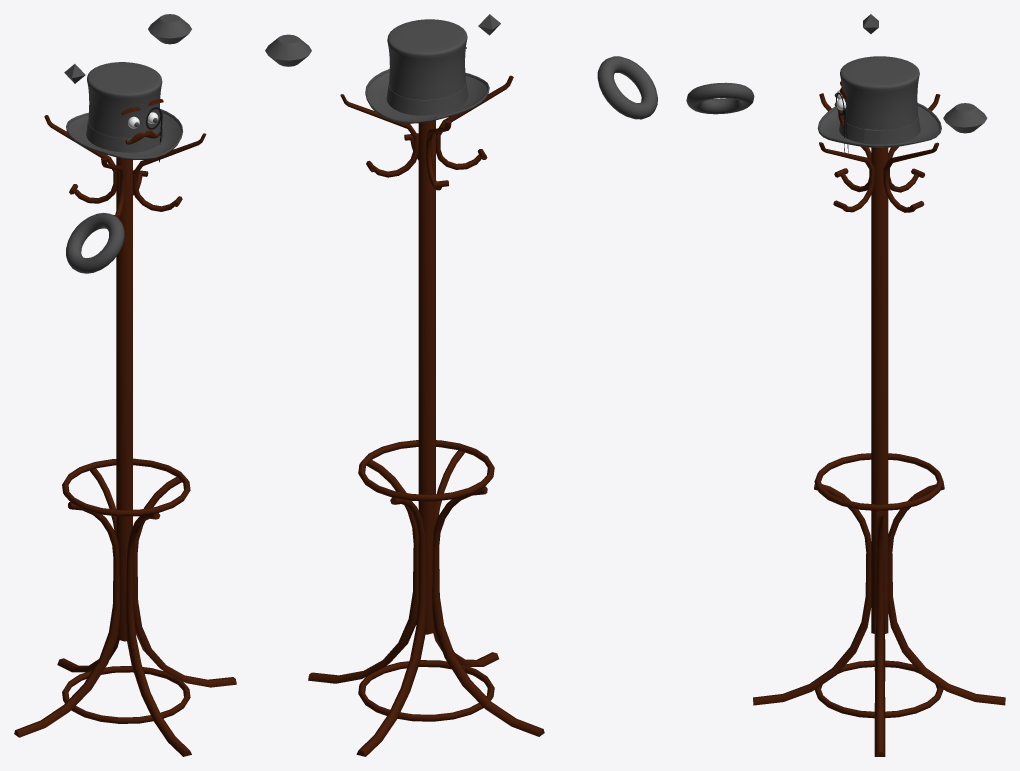
The model's file is floating_shapes7.glb.
3 views of the same model, side by side, from view 1: azimuth 30°, elevation 25°; view 2: azimuth 150°, elevation 25°; view 3: azimuth 270°, elevation 25° (orthographic). The views are drawn at different scales.
Visible parts, largest first — view 1: CoatHanger, CylinderBase, Shape001, ChamferCyl001; view 2: CoatHanger, CylinderBase, Shape001, ChamferCyl001; view 3: CoatHanger, CylinderBase, Shape001, ChamferCyl001.
Part boxes in pixels (x1=…): CoatHanger: x1=14, y1=115, x2=236, y2=756; CylinderBase: x1=66, y1=62, x2=183, y2=159; Shape001: x1=66, y1=213, x2=124, y2=273; ChamferCyl001: x1=148, y1=14, x2=191, y2=44; CoatHanger: x1=308, y1=75, x2=544, y2=756; CylinderBase: x1=365, y1=19, x2=489, y2=123; Shape001: x1=597, y1=56, x2=657, y2=119; ChamferCyl001: x1=265, y1=34, x2=311, y2=66; CoatHanger: x1=753, y1=93, x2=1005, y2=756; CylinderBase: x1=817, y1=56, x2=941, y2=147; Shape001: x1=686, y1=82, x2=754, y2=114; ChamferCyl001: x1=943, y1=103, x2=987, y2=133.
Bounding box in the file's own units: 232 × 606 × 264.
